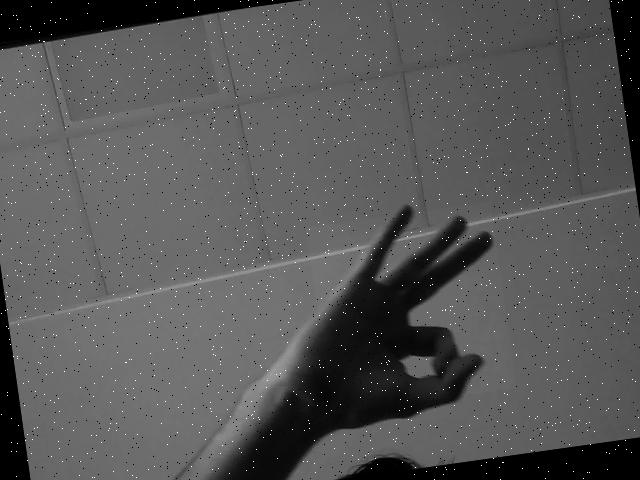OK: (306, 202, 517, 414)
